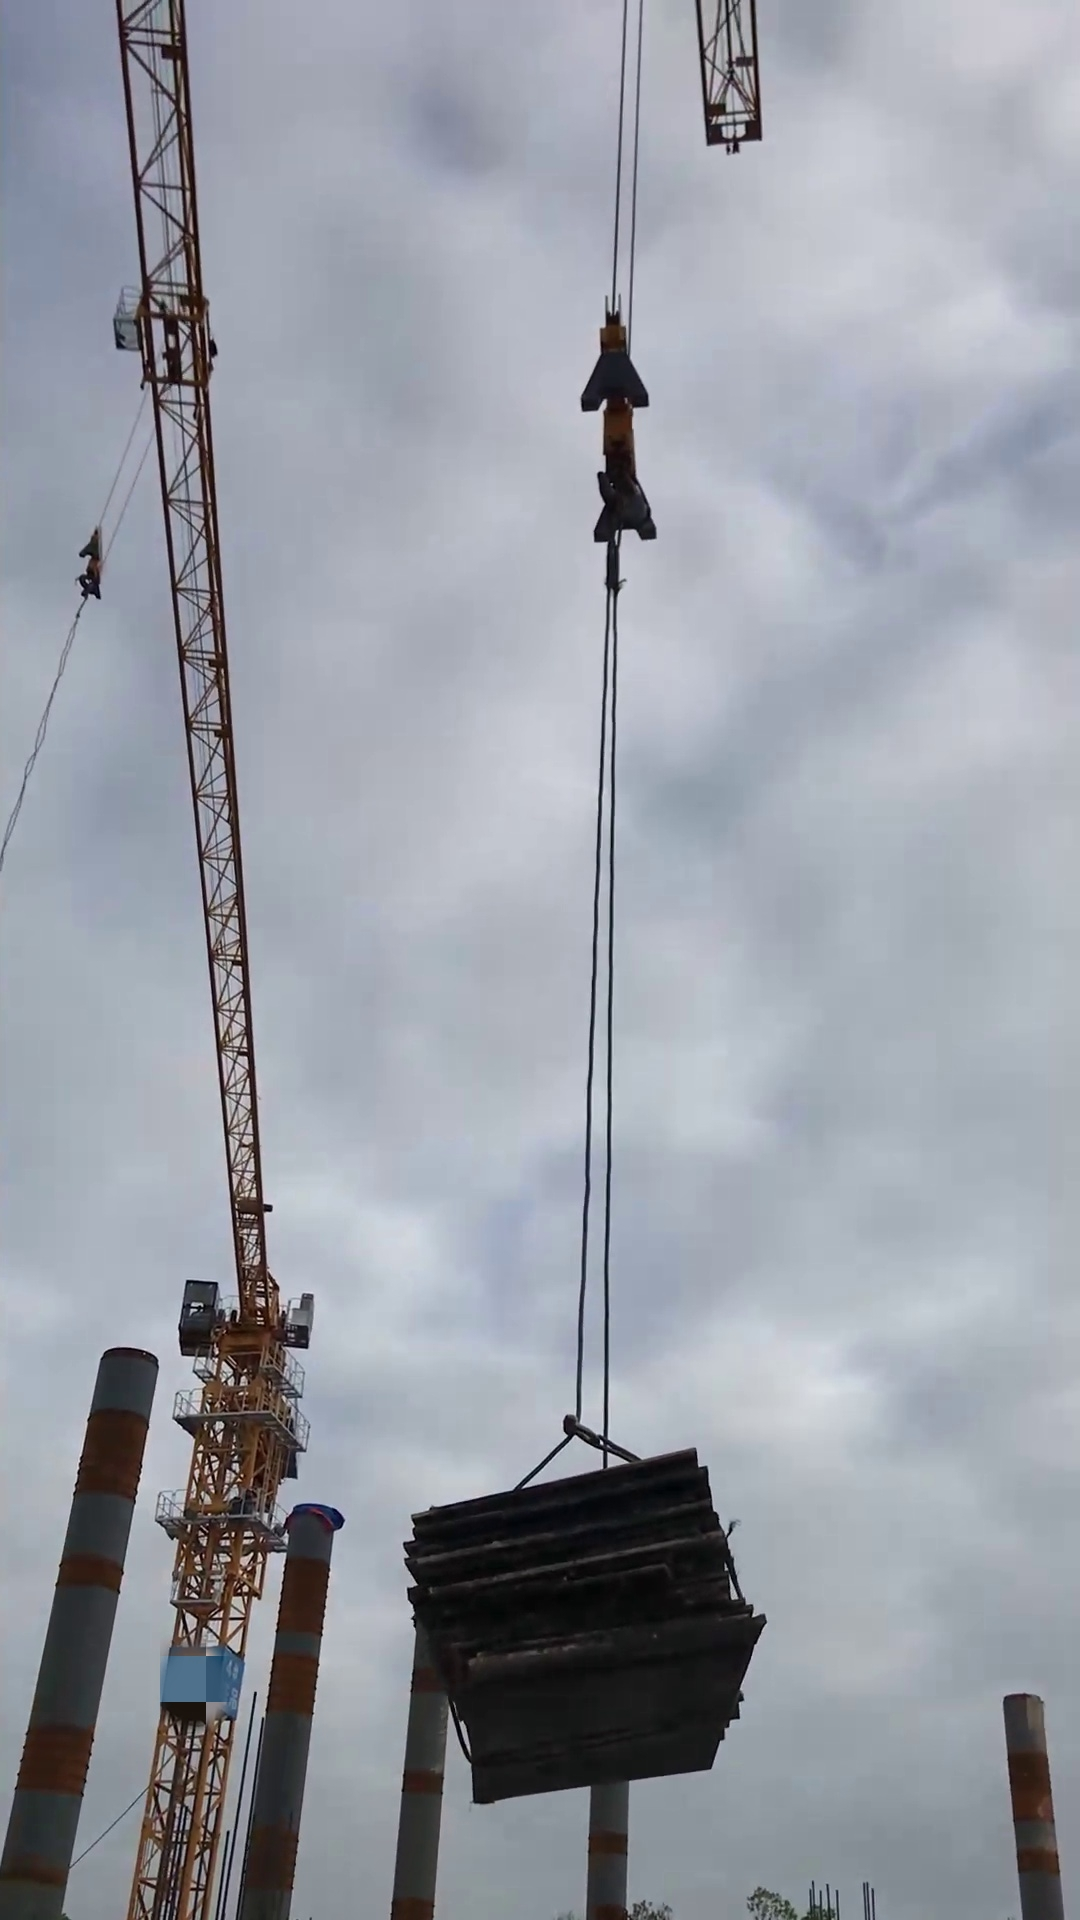board: (401, 1445, 770, 1809)
hook: (575, 291, 659, 549), (75, 520, 107, 603)
slogan: (214, 1651, 243, 1724)
